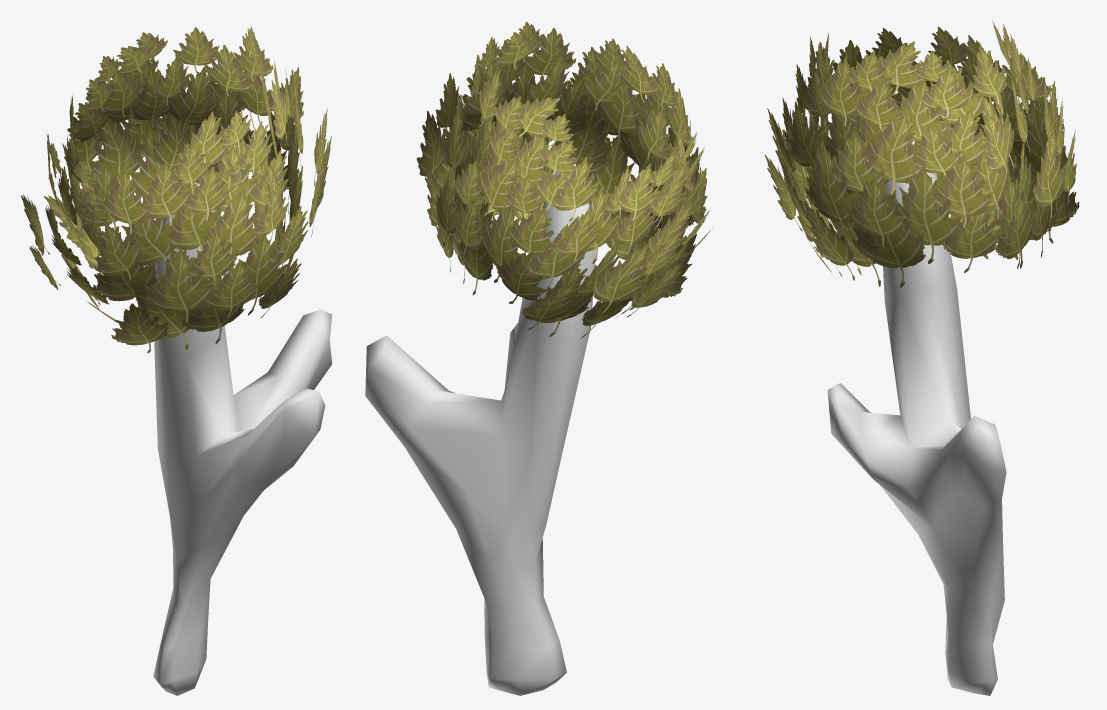
File: Tree4.fbx
3 views of the same model, side by side, from view 1: azimuth 30°, elevation 25°; view 2: azimuth 150°, elevation 25°; view 3: azimuth 270°, elevation 25° (orthographic). The views are drawn at different scales.
Parts seen in each view (by area): view 1: Tree4; view 2: Tree4; view 3: Tree4.
Part boxes in pixels (<box>): Tree4: <box>21,26,332,695</box>; Tree4: <box>365,21,712,695</box>; Tree4: <box>764,20,1079,695</box>.
Size of the model in its own units: 14.94 by 29.14 by 13.27.
